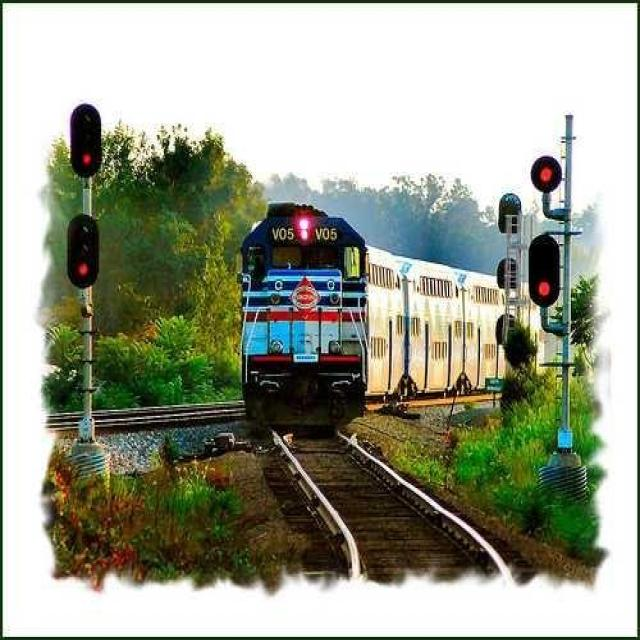Traffic Light -Red-: (65, 100, 104, 182), (528, 230, 560, 312), (67, 210, 97, 293), (529, 154, 563, 194)
